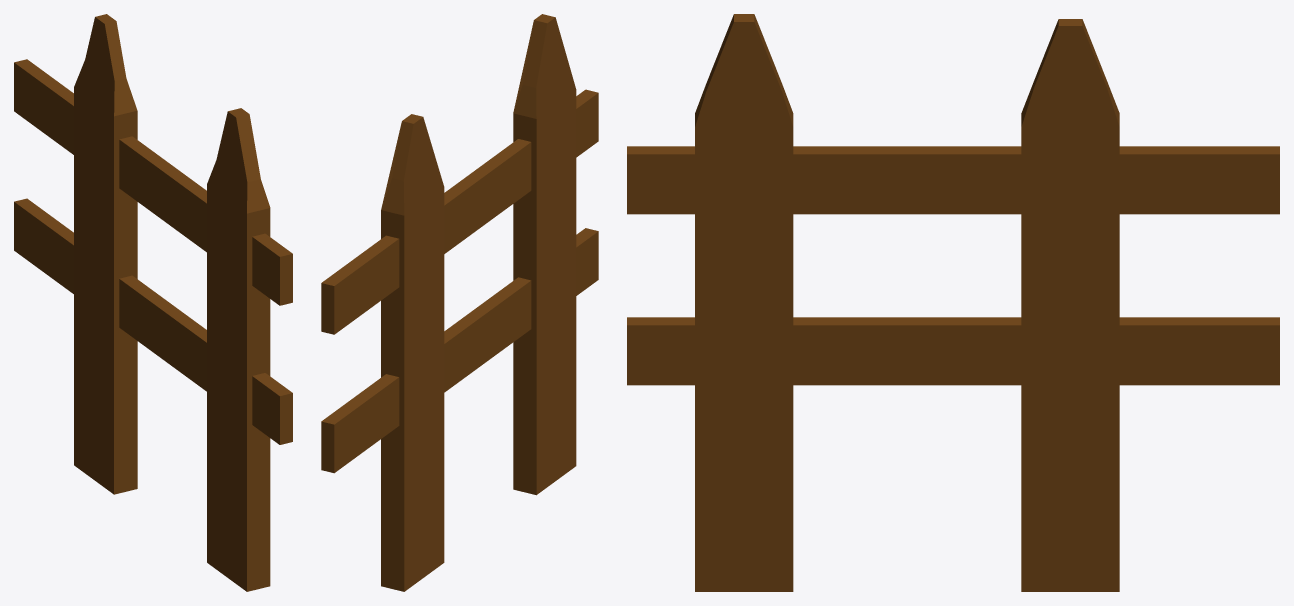
File: Fence3.glb
The picture shows the model from 3 angles, left to right: view 1: azimuth 30°, elevation 25°; view 2: azimuth 150°, elevation 25°; view 3: azimuth 270°, elevation 25°; orthographic projection. The views are drawn at different scales.
Parts seen in each view (by area): view 1: Cube.003; view 2: Cube.003; view 3: Cube.003.
Part boxes in pixels (x1,y1,x2,y2): Cube.003: (14, 14, 292, 591); Cube.003: (321, 14, 598, 591); Cube.003: (627, 14, 1279, 591).
Size of the model in its own units: 0.0509 by 0.9583 by 1.
